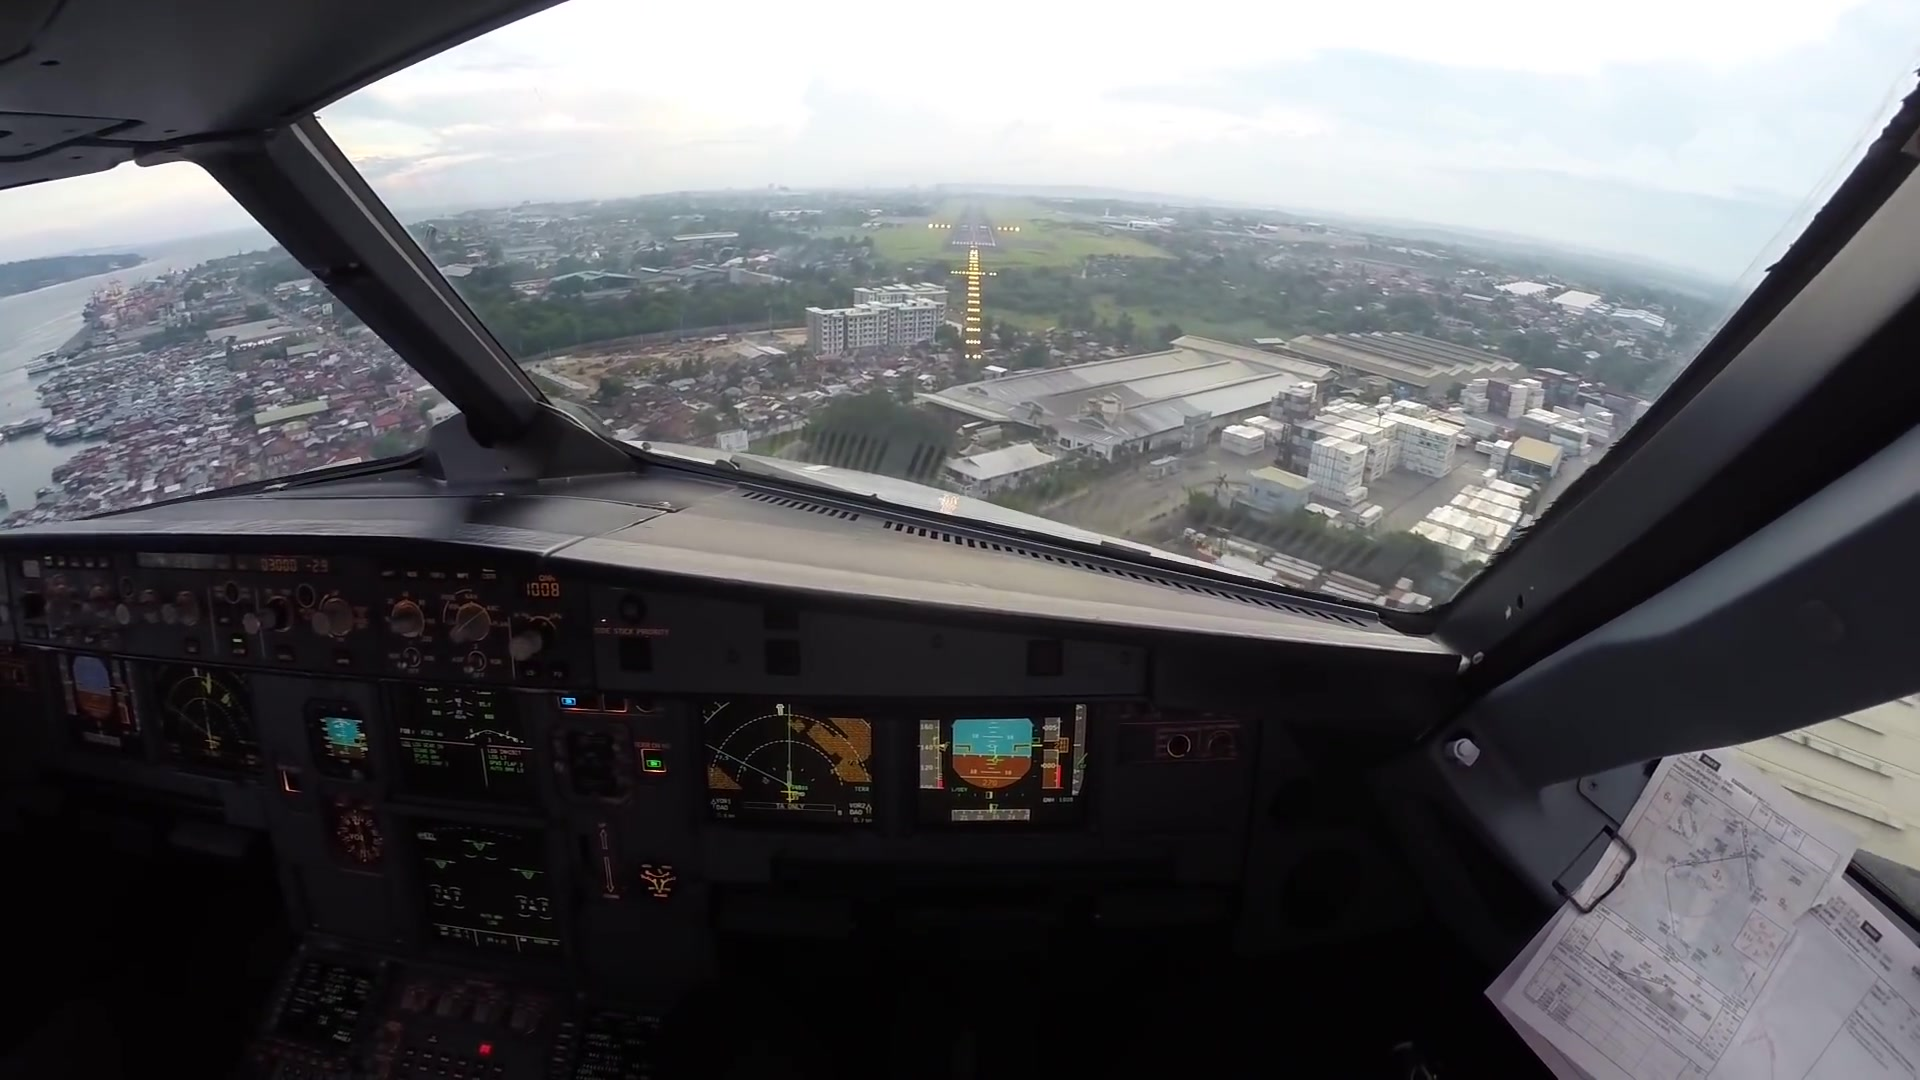entrance: (951, 239, 994, 247)
runway: (949, 204, 998, 248)
